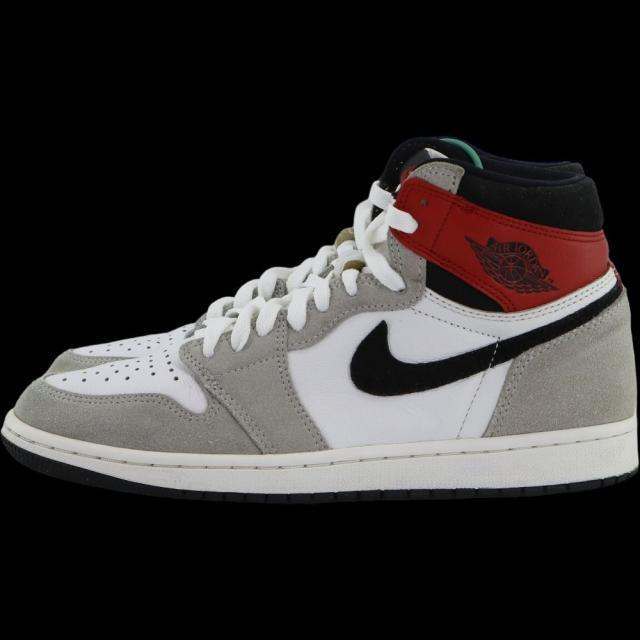nike original jordan 1: (0, 141, 640, 504)
